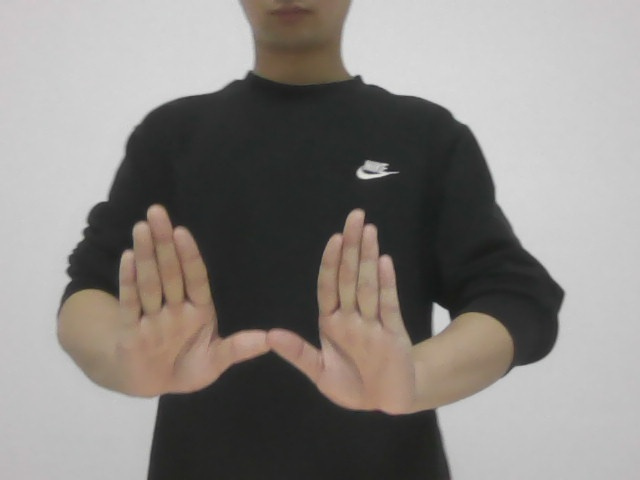door: (103, 195, 429, 426)
